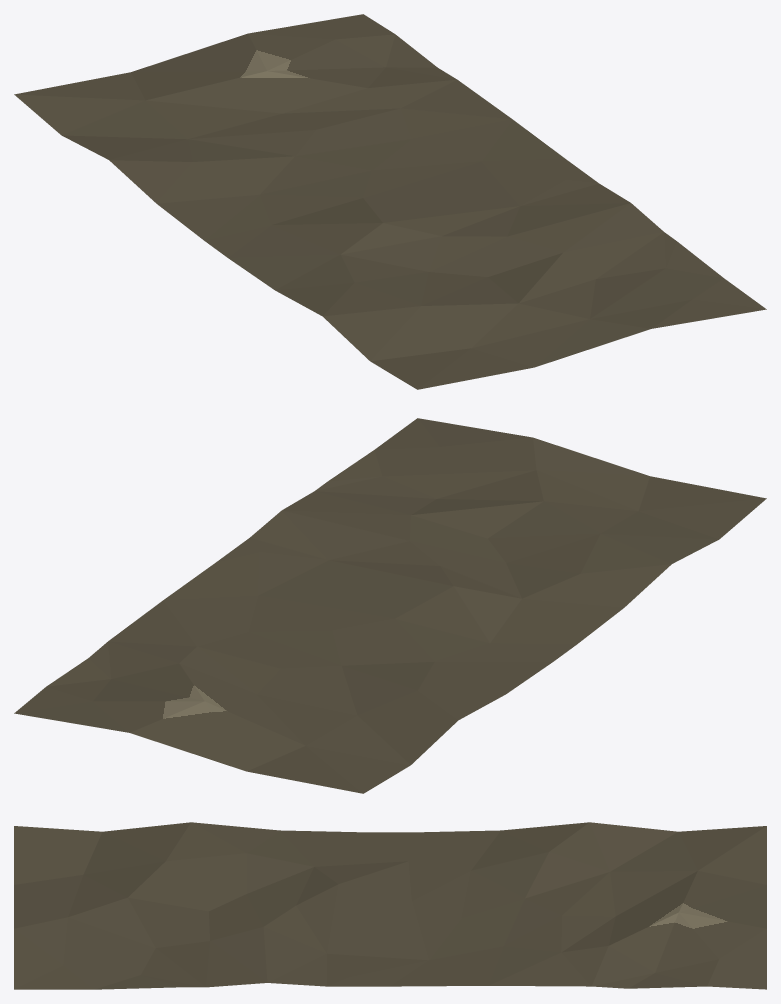
The model's file is SmallWater_01.fbx.
3 views of the same model, one above another, from view 1: azimuth 30°, elevation 25°; view 2: azimuth 150°, elevation 25°; view 3: azimuth 270°, elevation 25° (orthographic). The views are drawn at different scales.
Visible parts, largest first — view 1: SmallWater_01; view 2: SmallWater_01; view 3: SmallWater_01.
Part boxes in pixels (bbox=[...]): SmallWater_01: bbox=[14, 14, 766, 389]; SmallWater_01: bbox=[14, 418, 766, 793]; SmallWater_01: bbox=[14, 822, 766, 989].
Bounding box in the file's own units: 50 × 2.14 × 100.
Materials: 1 (1 with a texture image).
